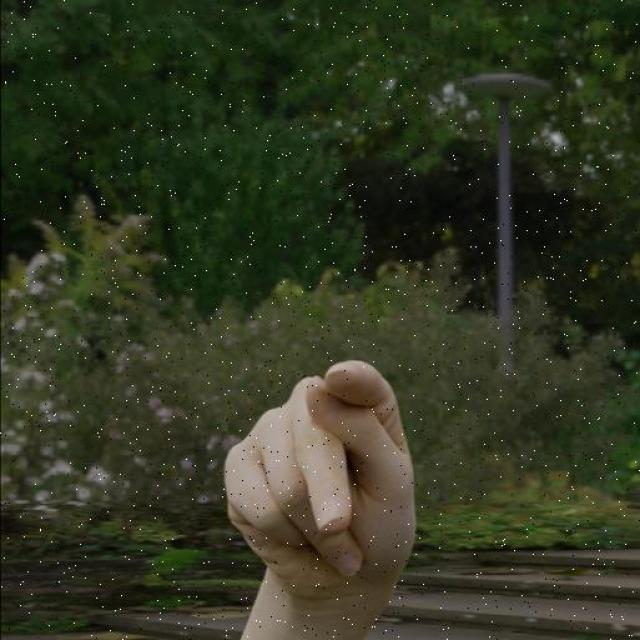P: (217, 356, 418, 603)
